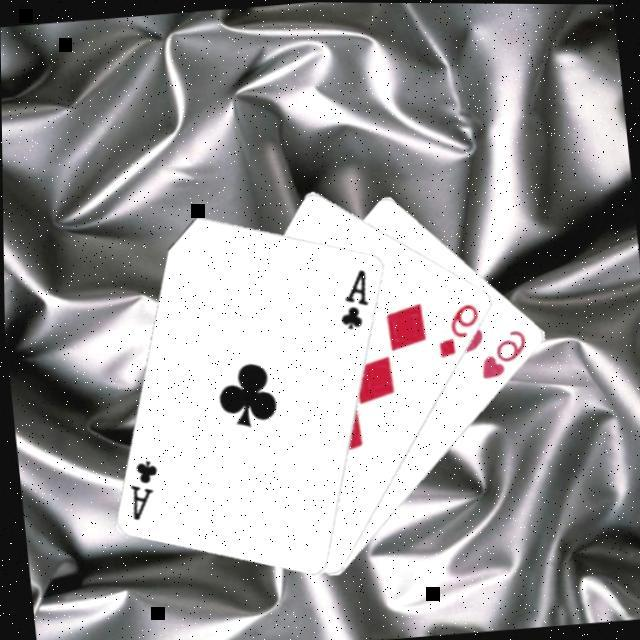6H: (472, 325, 531, 383)
9D: (428, 300, 484, 362)
AC: (330, 266, 373, 334), (121, 457, 164, 525)
